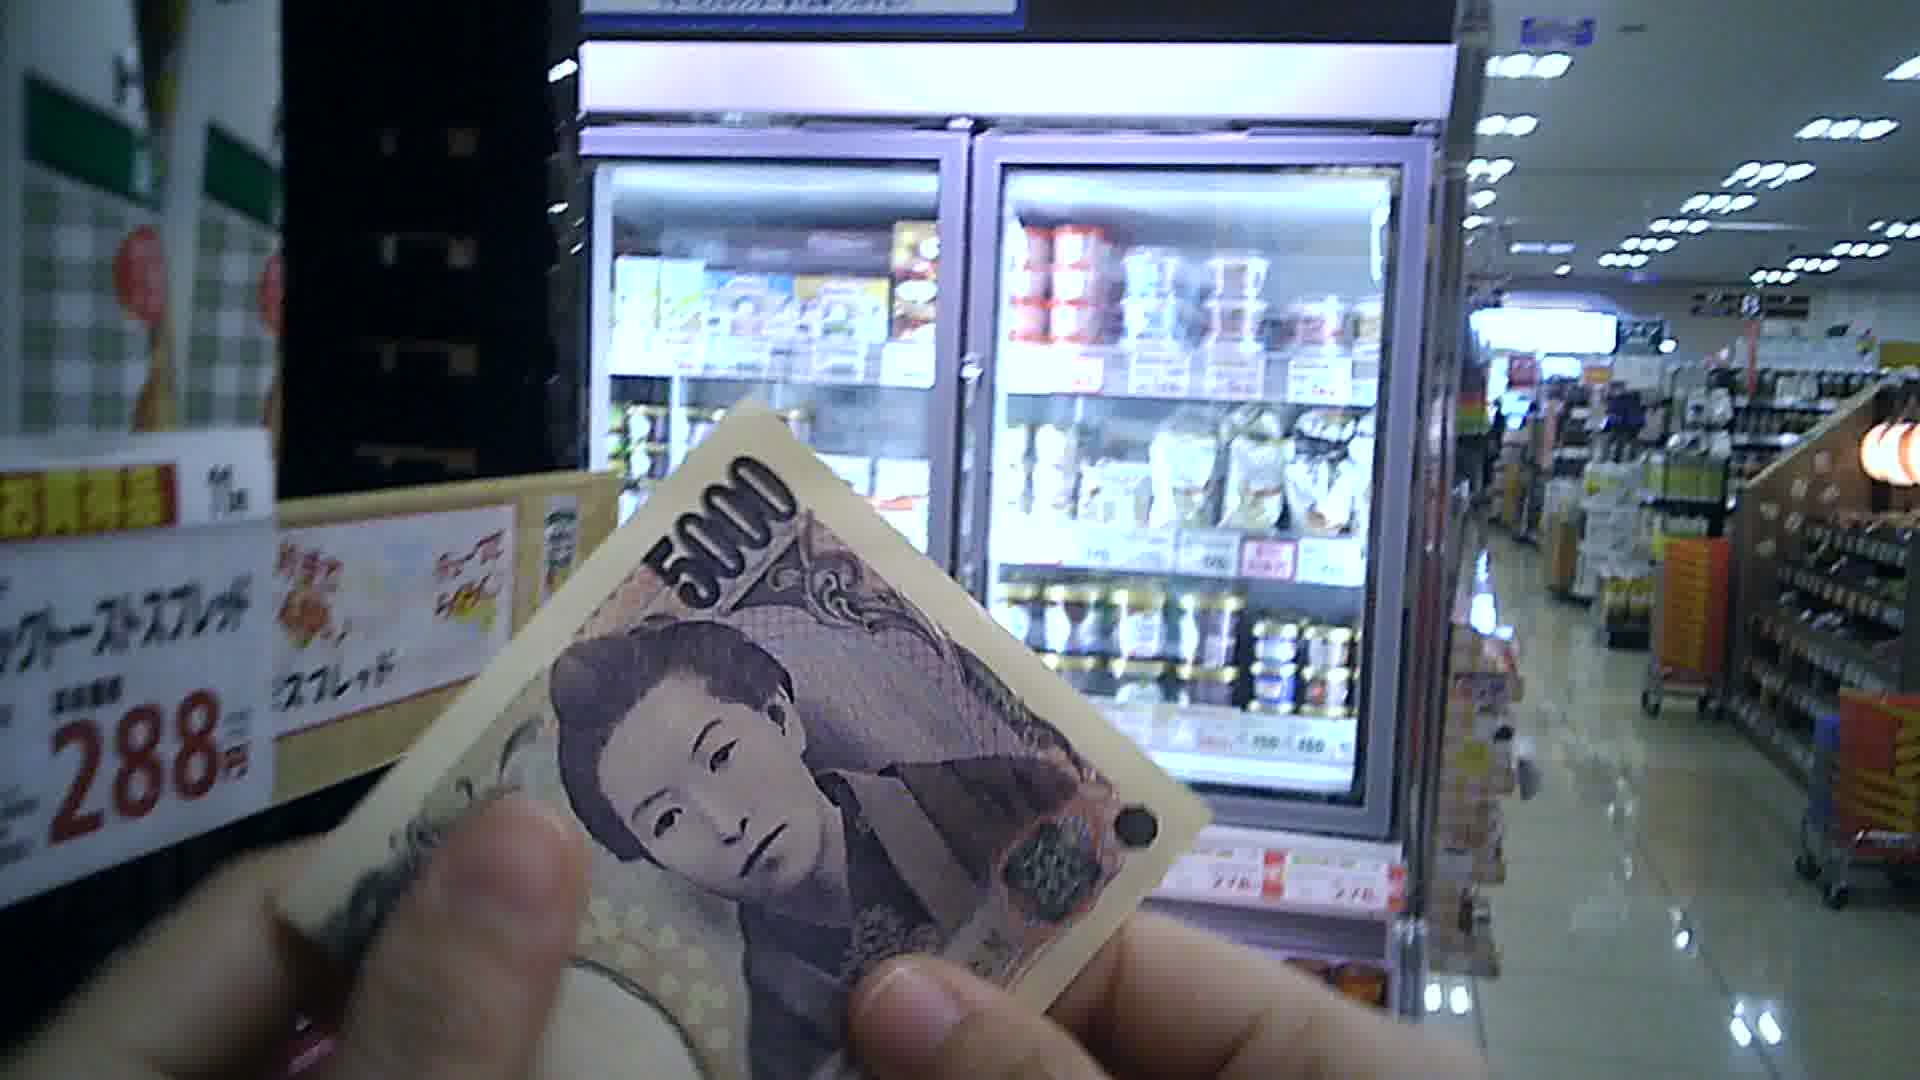5,000 Yen: (276, 375, 1187, 1068)
